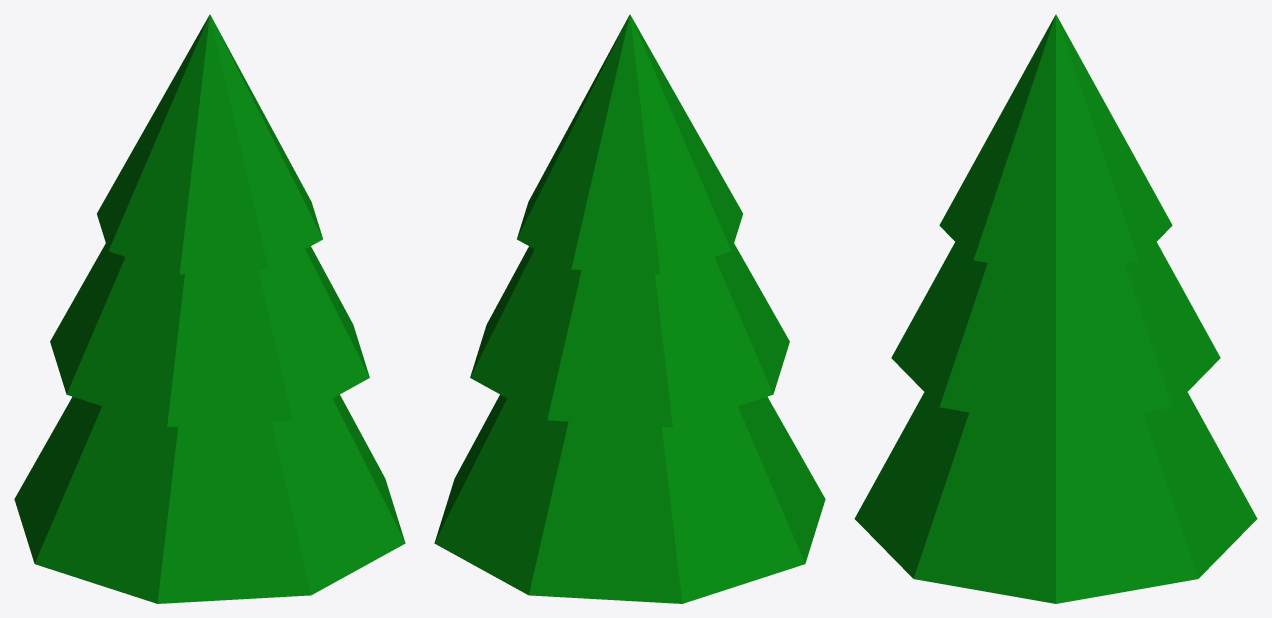
The model's file is Tree.fbx.
3 views of the same model, side by side, from view 1: azimuth 30°, elevation 25°; view 2: azimuth 150°, elevation 25°; view 3: azimuth 270°, elevation 25° (orthographic).
Parts seen in each view (by area): view 1: Cone; view 2: Cone; view 3: Cone.
Part boxes in pixels (x1,y1,x2,y2): Cone: [14, 14, 405, 603]; Cone: [434, 14, 825, 603]; Cone: [854, 14, 1257, 603].
Bounding box in the file's own units: 119 × 181 × 119.
